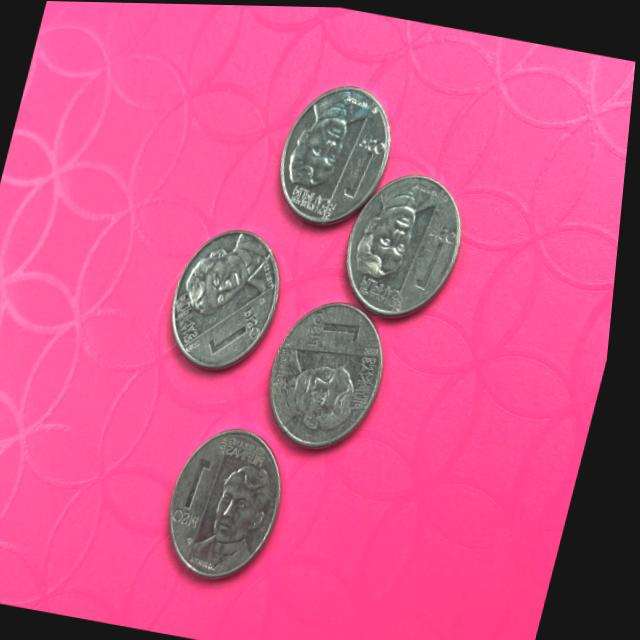1_New_Front: (407, 208, 466, 291), (337, 126, 394, 203), (179, 448, 229, 533), (207, 305, 270, 371), (310, 305, 375, 352)
